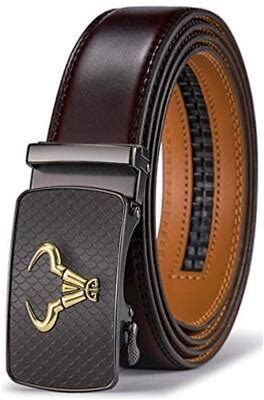cuero: (45, 6, 258, 373)
